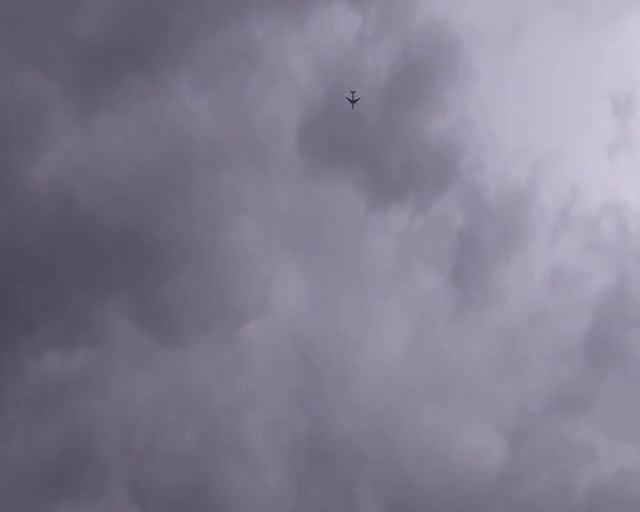AIRPLANE: (345, 89, 361, 109)
